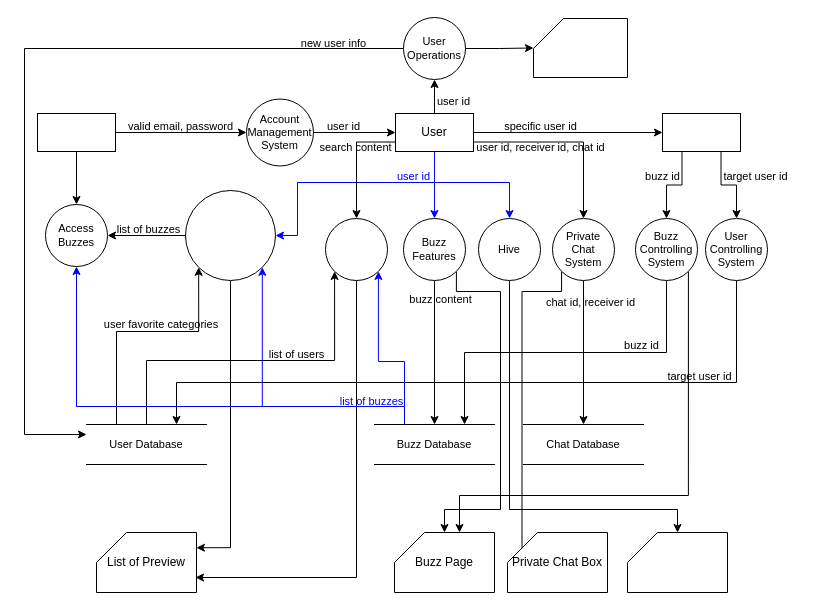
Image size: 814x610. Some labels were removed from this diagram. Here are the shapes that lost their labels. From the top down, the centre of each, then its label:
At (x=580, y=48): "User Setting Page".
At (x=76, y=132): "Visitor".
At (x=701, y=132): "Admin".
At (x=230, y=235): "Recommendation System".
At (x=356, y=249): "Searching System".
At (x=677, y=562): "Hive Page".
